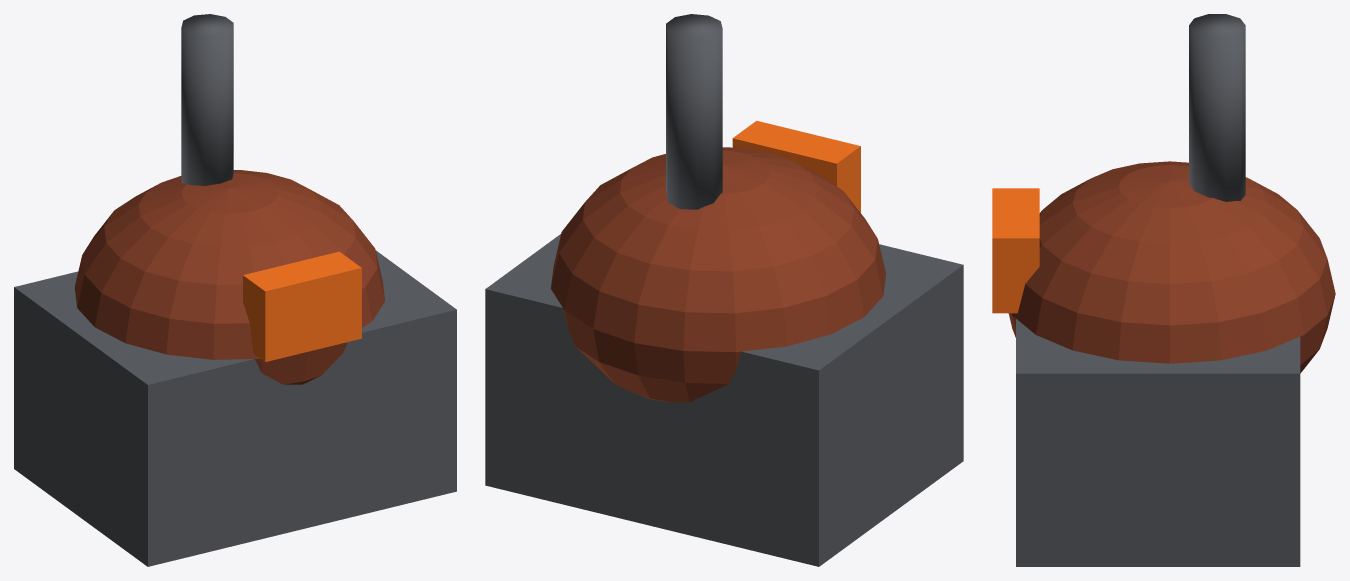
File: pizza_oven.glb
3 views of the same model, side by side, from view 1: azimuth 30°, elevation 25°; view 2: azimuth 150°, elevation 25°; view 3: azimuth 270°, elevation 25° (orthographic). The views are drawn at different scales.
Visible parts, largest first — view 1: pizza_oven; view 2: pizza_oven; view 3: pizza_oven.
Part boxes in pixels (x1,y1,x2,y2): pizza_oven: (14, 14, 456, 566); pizza_oven: (485, 14, 963, 566); pizza_oven: (992, 14, 1335, 566).
Size of the model in its own units: 1.6 by 2.15 by 1.45.
1 material, 1 textured.
